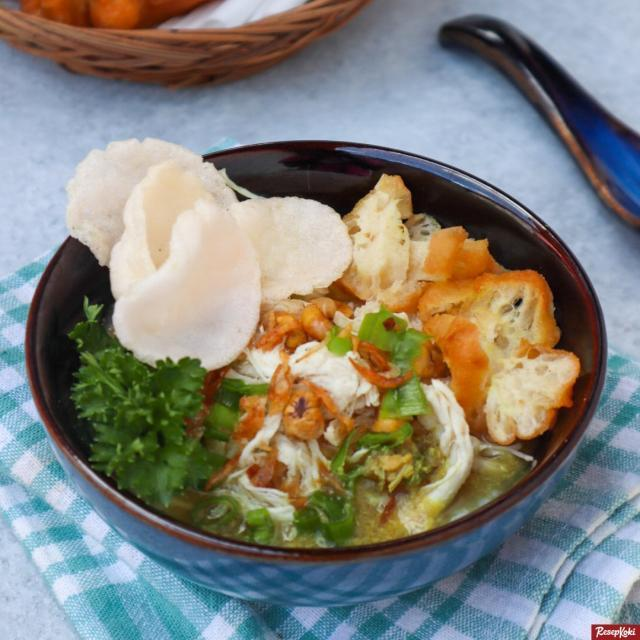bubur ayam: (60, 174, 582, 550)
mangkuk: (15, 139, 612, 616), (0, 0, 371, 89)
